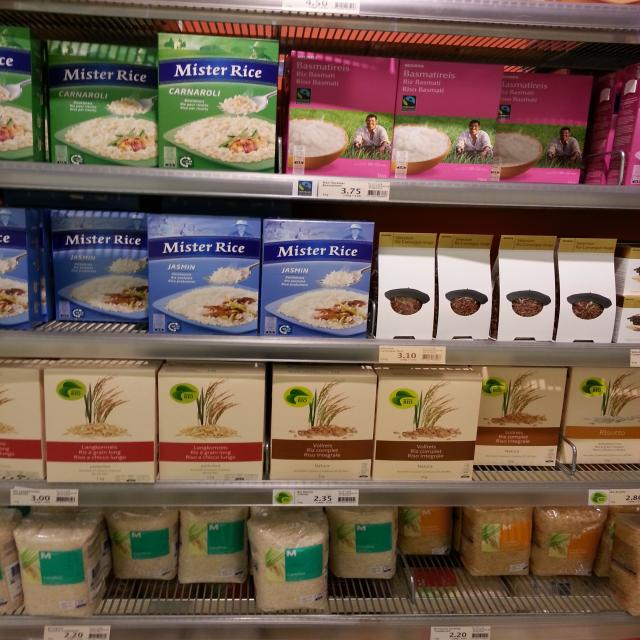Rice: (159, 33, 277, 175), (47, 39, 160, 167), (44, 359, 161, 482), (287, 50, 397, 178), (148, 214, 260, 335), (262, 219, 375, 338), (393, 60, 501, 182), (371, 364, 483, 480), (269, 363, 377, 481), (158, 362, 263, 483), (491, 70, 592, 184), (51, 210, 147, 321), (14, 512, 107, 618), (475, 364, 567, 467), (246, 512, 326, 610), (562, 367, 640, 462), (492, 236, 554, 340), (378, 232, 436, 341), (558, 238, 617, 343), (438, 233, 494, 340), (178, 507, 247, 582), (533, 506, 605, 576), (460, 507, 531, 576), (329, 506, 397, 577), (111, 506, 176, 580), (400, 507, 452, 555)
